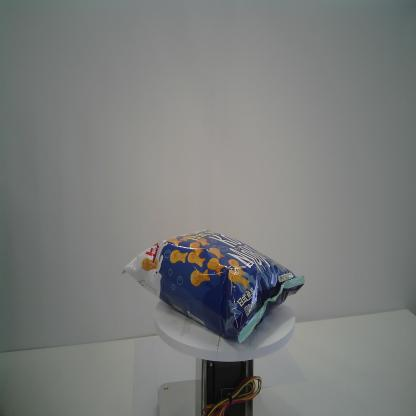Puffed Food: (120, 228, 306, 344)
